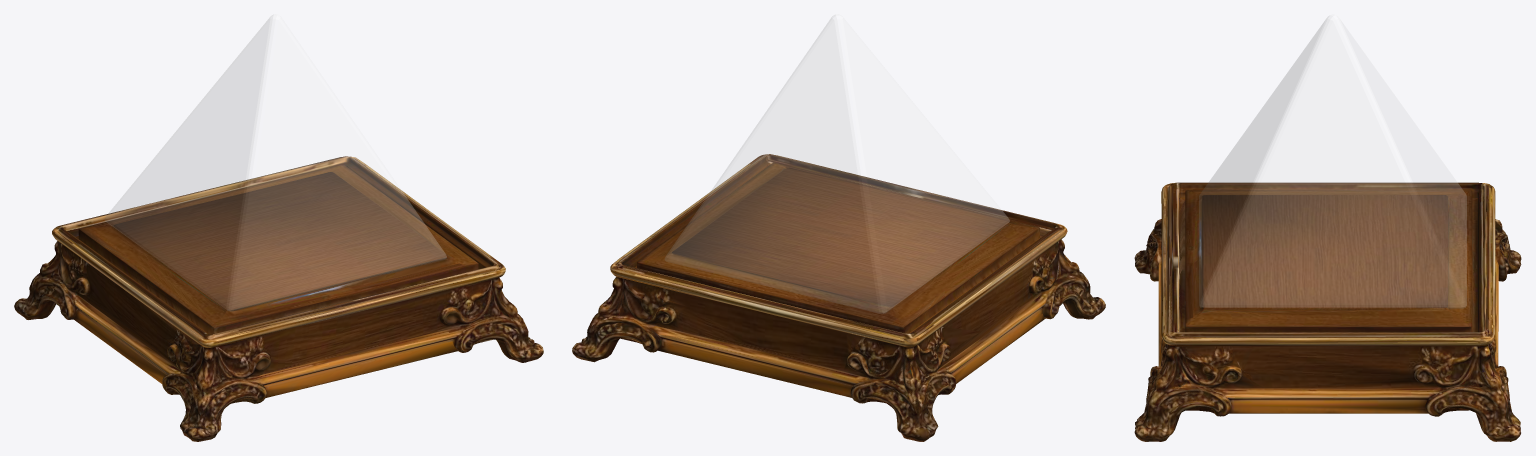
3 views of the same model, side by side, from view 1: azimuth 30°, elevation 25°; view 2: azimuth 150°, elevation 25°; view 3: azimuth 270°, elevation 25° (orthographic). The views are drawn at different scales.
Visible parts, largest first — view 1: Cube.002; view 2: Cube.002; view 3: Cube.002.
Part boxes in pixels (bbox=[...]): Cube.002: bbox=[14, 14, 543, 441]; Cube.002: bbox=[572, 14, 1105, 441]; Cube.002: bbox=[1134, 14, 1521, 441].
Bounding box in the file's own units: 0.363 × 0.3134 × 0.3252.
2 materials, 1 textured.
